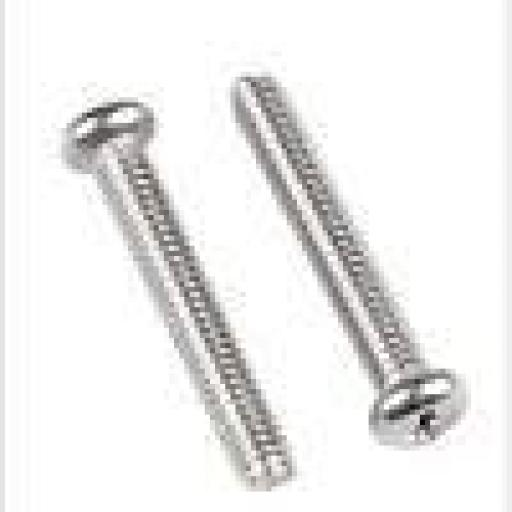Phillips: (368, 365, 468, 454)
